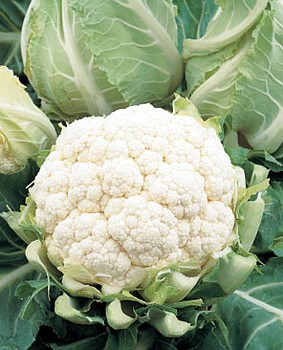cauliflower: (0, 90, 282, 349)
